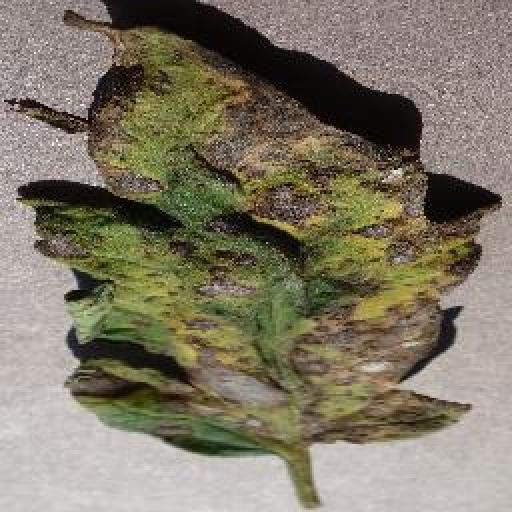Early Blight: (25, 9, 500, 459)
